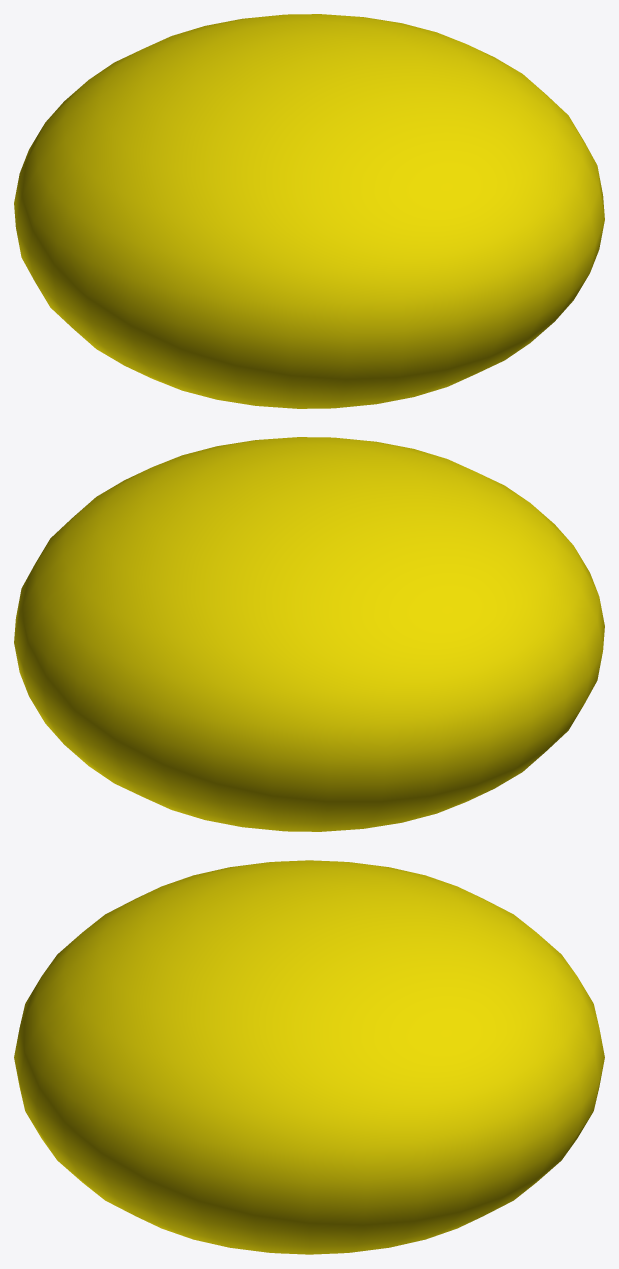
Rendered from Gold.fbx.
The picture shows the model from 3 angles, top to bottom: view 1: azimuth 30°, elevation 25°; view 2: azimuth 150°, elevation 25°; view 3: azimuth 270°, elevation 25°; orthographic projection.
Parts seen in each view (by area): view 1: Sphere; view 2: Sphere; view 3: Sphere.
Boxes of the visible parts, x1,y1,x2,y2 form: Sphere: (14,14,604,408); Sphere: (14,437,604,831); Sphere: (14,860,604,1254).
Bounding box in the file's own units: 17.88 × 10.26 × 17.88.
